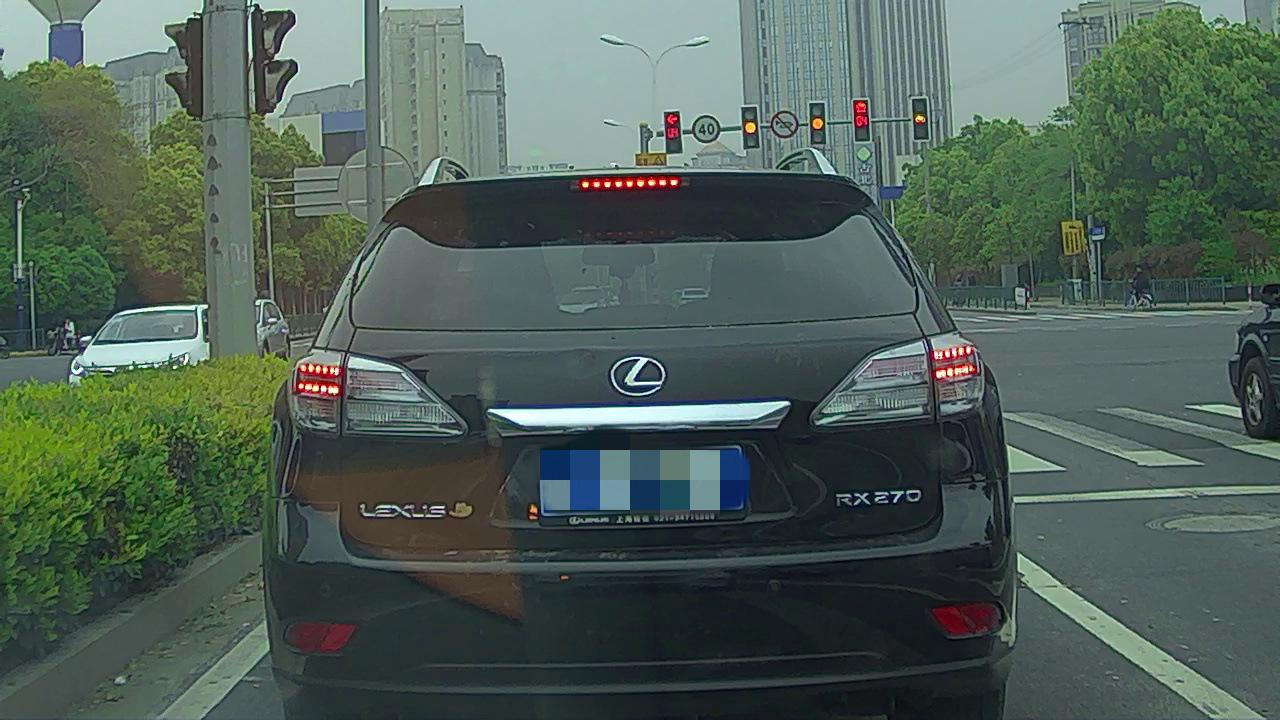traffic_light: (741, 107, 761, 148), (664, 111, 683, 153), (809, 102, 826, 146), (853, 98, 870, 141), (912, 98, 929, 141)
